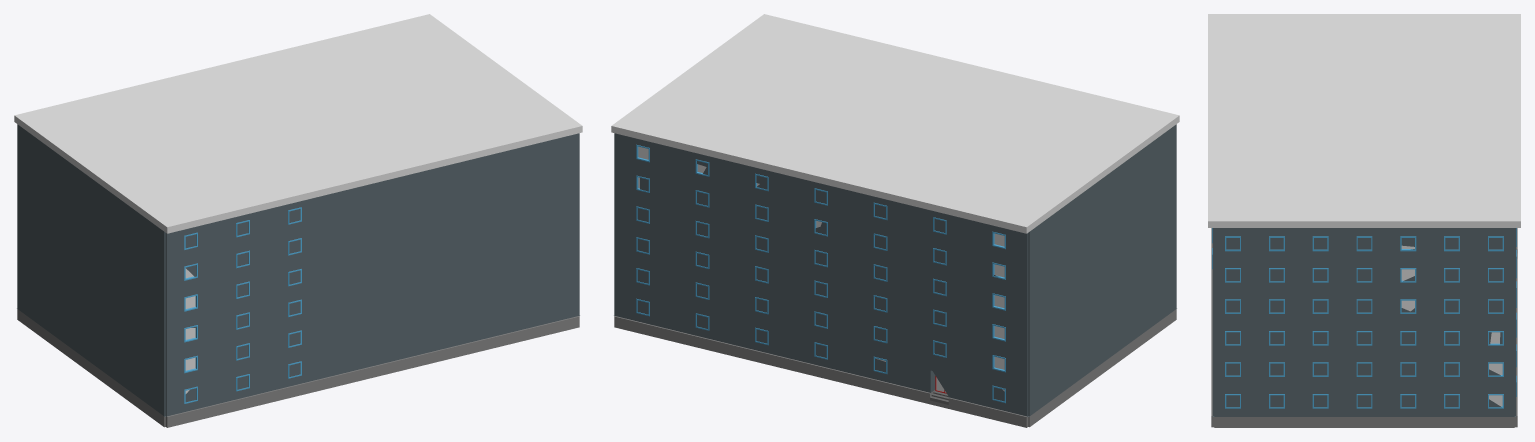
File: BCC40_F06_02.fbx
The picture shows the model from 3 angles, left to right: view 1: azimuth 30°, elevation 25°; view 2: azimuth 150°, elevation 25°; view 3: azimuth 270°, elevation 25°; orthographic projection. The views are drawn at different scales.
Parts seen in each view (by area): view 1: BCC40_F06_02; view 2: BCC40_F06_02; view 3: BCC40_F06_02.
Part boxes in pixels (<box>): BCC40_F06_02: <box>14,14,582,427</box>; BCC40_F06_02: <box>611,14,1179,427</box>; BCC40_F06_02: <box>1208,14,1520,427</box>.
Bounding box in the file's own units: 4005 × 1860 × 2550.
